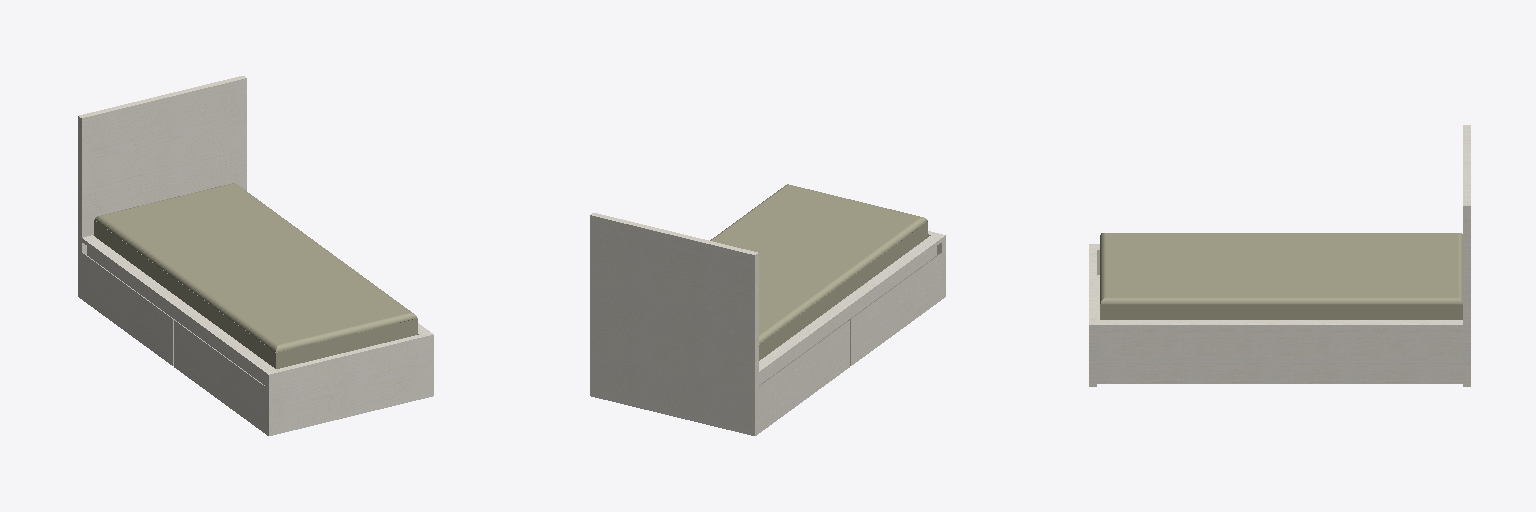
3 views of the same model, side by side, from view 1: azimuth 30°, elevation 25°; view 2: azimuth 150°, elevation 25°; view 3: azimuth 270°, elevation 25° (orthographic).
Visible parts, largest first — view 1: Mesh3_Group1_Model, Mesh6_Group2_Model, Mesh9_Komponente_3_1_Model, Mesh11_Komponente_3_2_Model; view 2: Mesh3_Group1_Model, Mesh6_Group2_Model, Mesh11_Komponente_3_2_Model, Mesh9_Komponente_3_1_Model; view 3: Mesh6_Group2_Model, Mesh3_Group1_Model.
Part boxes in pixels (x1,y1,x2,y2): Mesh3_Group1_Model: (78,76,433,435); Mesh6_Group2_Model: (94,183,417,368); Mesh9_Komponente_3_1_Model: (82,253,175,365); Mesh11_Komponente_3_2_Model: (174,320,264,432); Mesh3_Group1_Model: (590,213,945,435); Mesh6_Group2_Model: (710,184,927,360); Mesh11_Komponente_3_2_Model: (848,253,941,365); Mesh9_Komponente_3_1_Model: (759,320,849,432); Mesh6_Group2_Model: (1100,233,1462,319); Mesh3_Group1_Model: (1089,125,1470,386).
Bounding box in the file's own units: 105 × 110 × 210.
3 materials, 1 textured.